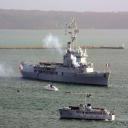Portanaves: (19, 16, 112, 88)
